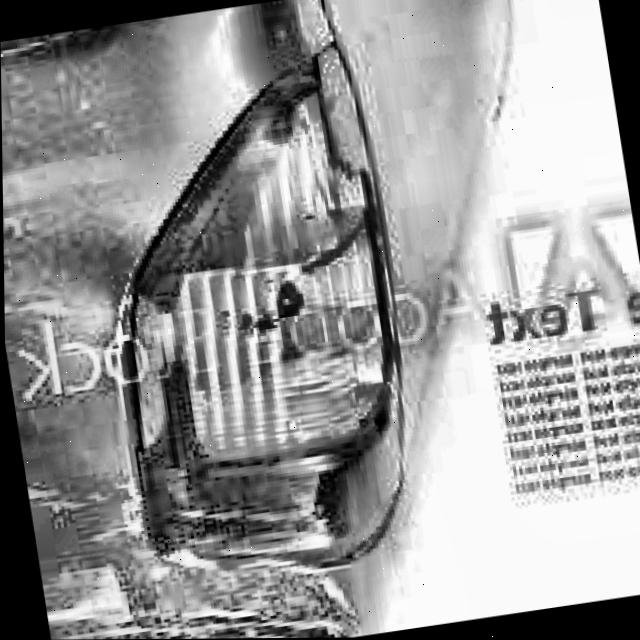tail_lamp: (88, 60, 429, 583)
